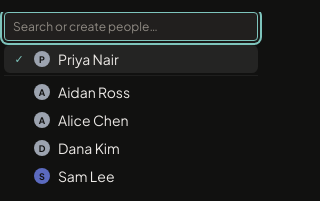
ChipSelector › the search shows a × only while it has text; a click empties it, keeps the focus and the picker open
Type "ali" into the dropdown at (131, 26), box 4,12 -> 258,41
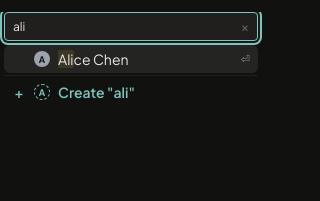
Now the options read "AAlice Chen⏎", "+ACreate \"ali\"", in this order, box 4,45 -> 258,73; 14,82 -> 135,100
Click the button named "Clear search" at (245, 26), box 237,18 -> 253,34
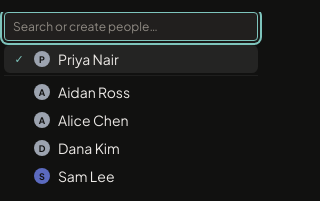
Now the dropdown is empty, box 4,12 -> 258,41
Now the number of options is 5, box 4,45 -> 258,73; 34,82 -> 130,100; 34,110 -> 128,128; 34,138 -> 120,156; 34,166 -> 114,184
Now the option "✓ P Priya Nair" is shown, box 4,45 -> 258,73
